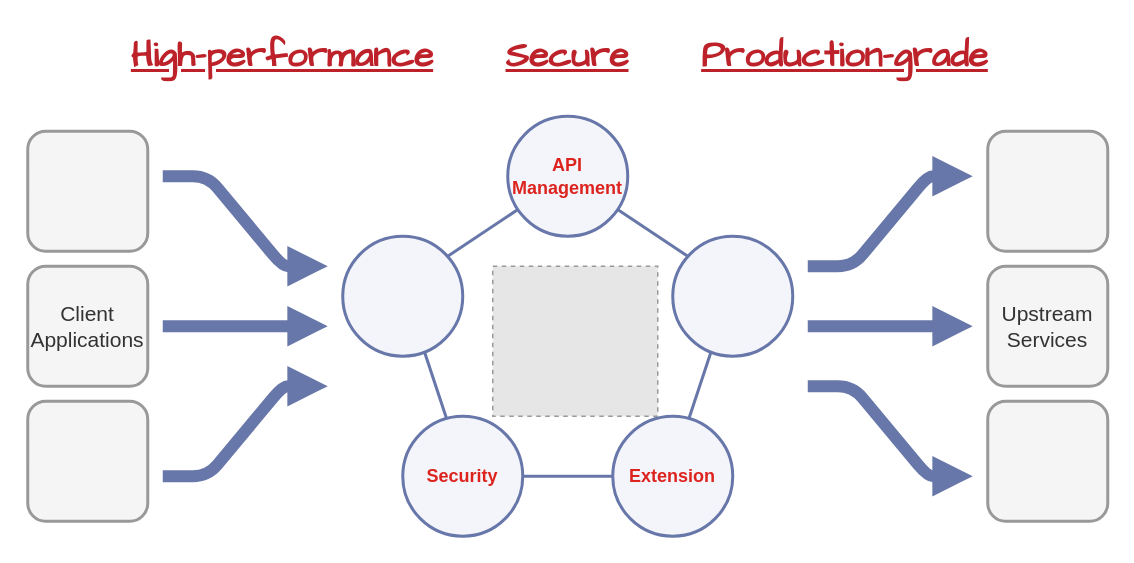
This 1134x563 diagram has some shape labels left out. Grey dashed boxes stand in for pictures. The box of each missing label's shape, as (x1, y1, x2, y2) in pixels:
Operation: (670, 234, 794, 357)
Traffic Management: (340, 234, 464, 357)
